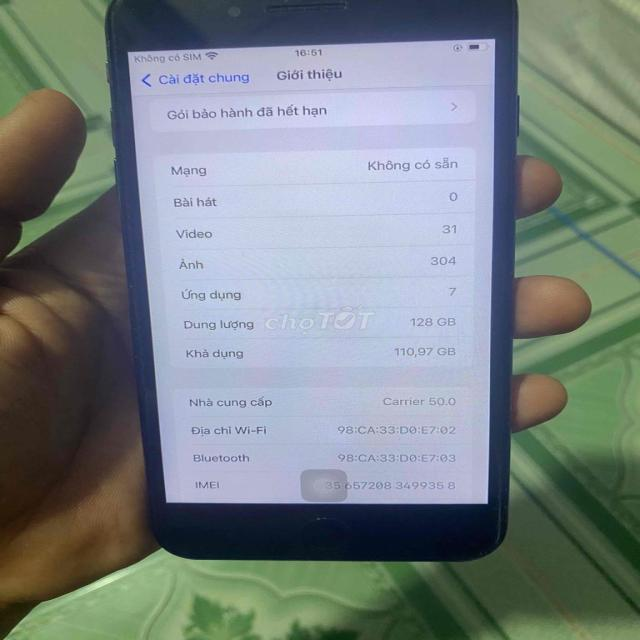gen_7_8: (97, 0, 528, 573)
scratch: (308, 507, 331, 523)
